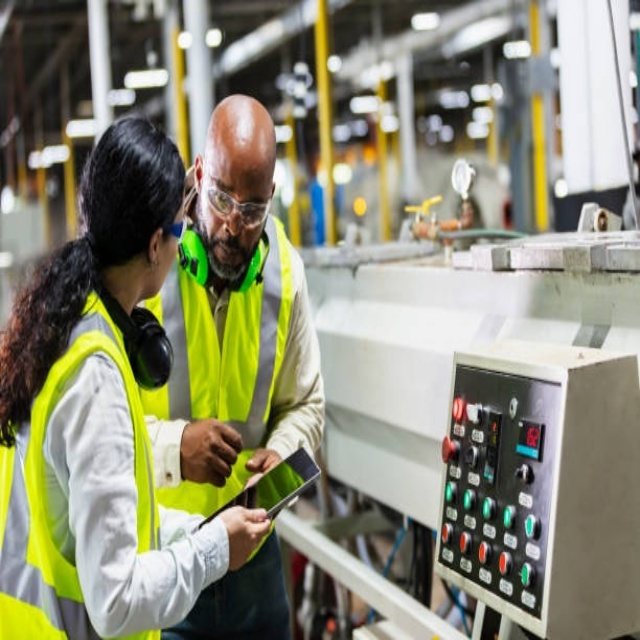Gafas: (203, 182, 274, 229), (160, 216, 192, 248)
Sin_guantes: (183, 416, 241, 489), (218, 500, 272, 571), (245, 441, 281, 489)
Sin_mascara: (214, 234, 250, 282)
